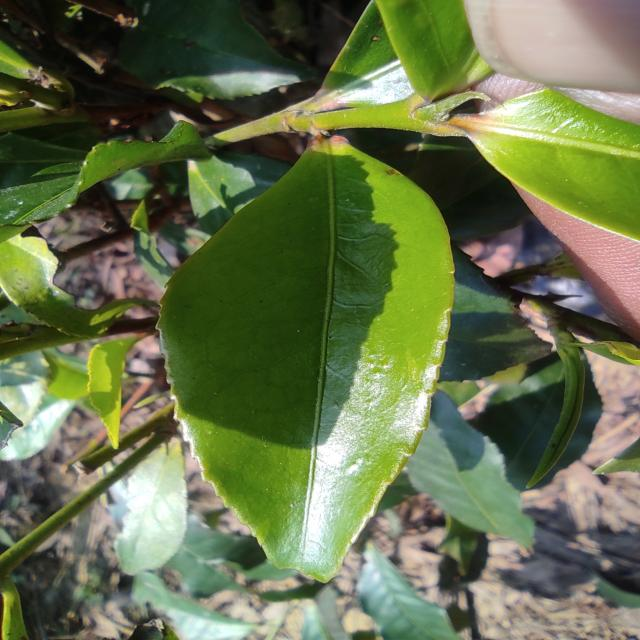Category C 4-7 days: (120, 116, 492, 590)
